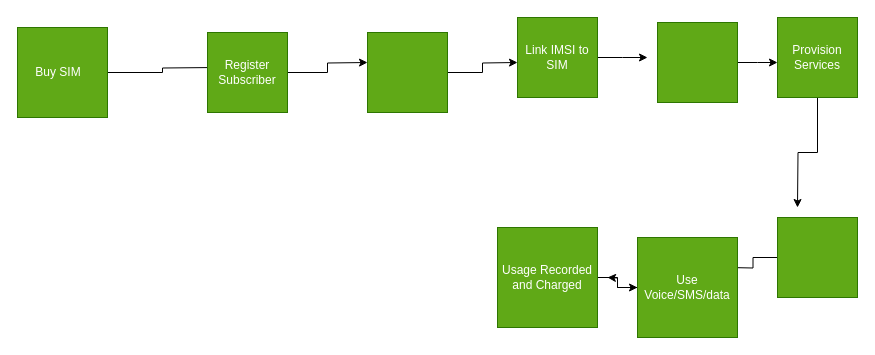
Some shapes in this 875 by 355 pixel diagram are drawn without their labels. Each missing label, with the box of its shape:
Activate: (776, 216, 858, 298)
Assign MSISDN: (366, 32, 448, 112)
Store Subscriber Records: (656, 22, 738, 102)
